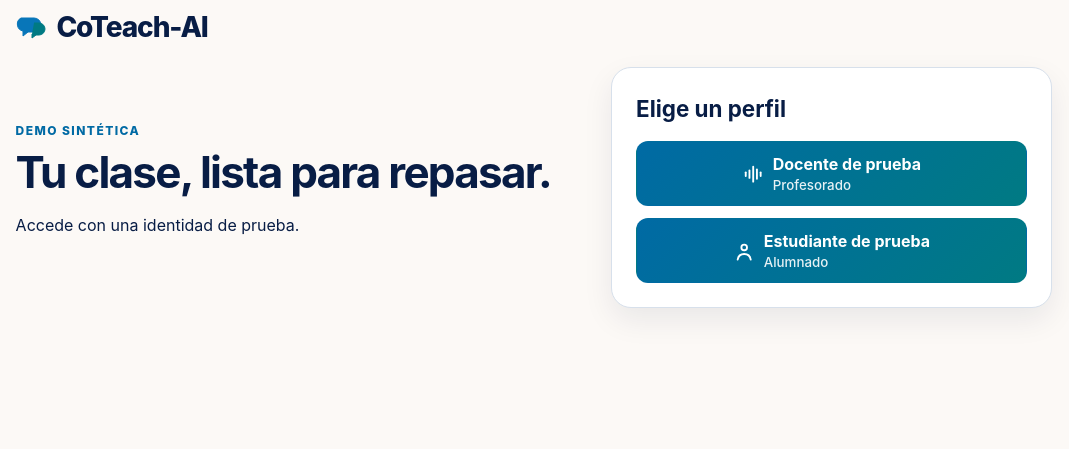
signs in with a token of the test issuer and explains when the issuer is off
This screenshot has width=1069, height=449.
Click the button "Docente de prueba Profesorado" at (832, 174), box [636,141,1027,206]
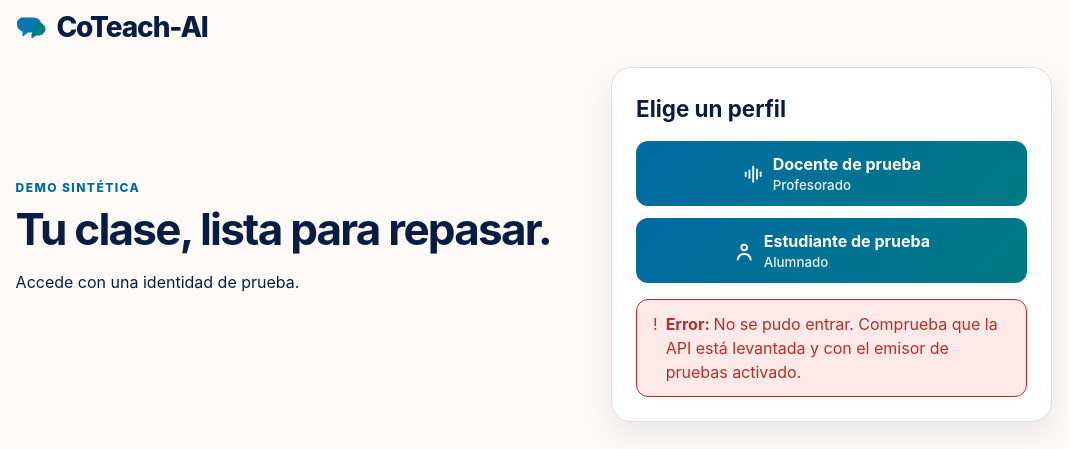
Now the message shows "No se pudo entrar", box [666,314,998,382]
